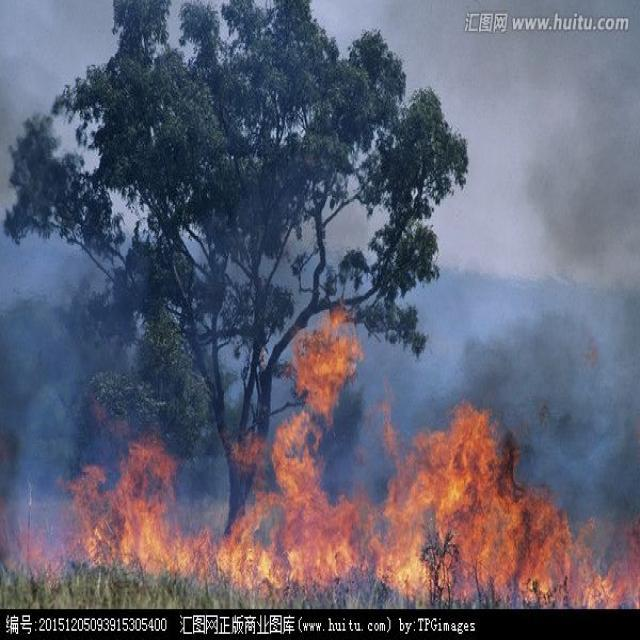Fire: (18, 302, 640, 609)
